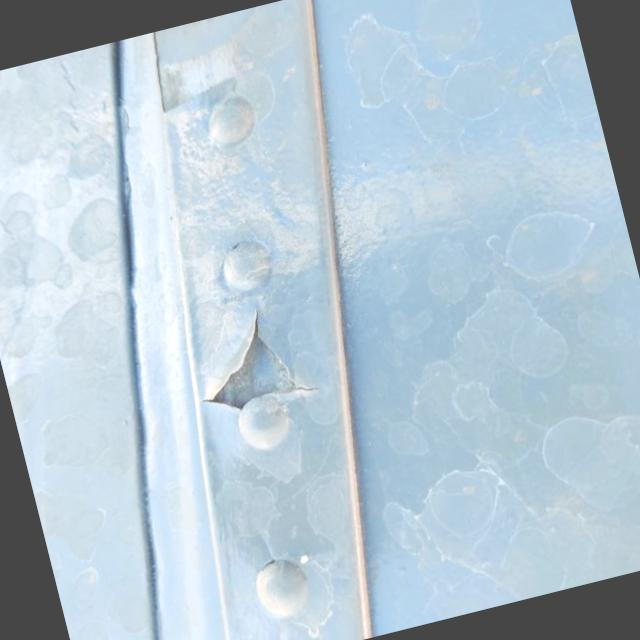paint-off: (167, 280, 339, 447)
